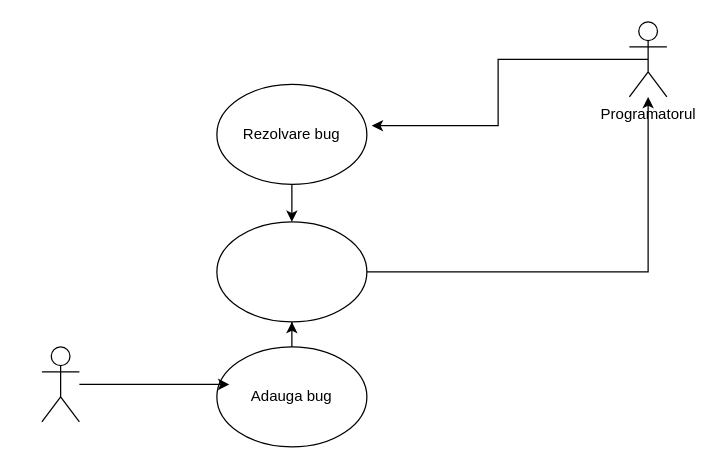
This 718x470 diagram has some shape labels left out. Here are the shapes that lost their labels. From the top down, the centre of each, then its label:
At [291,271]: "Lista bug-uri".
At [60,384]: "Verificatorul".
